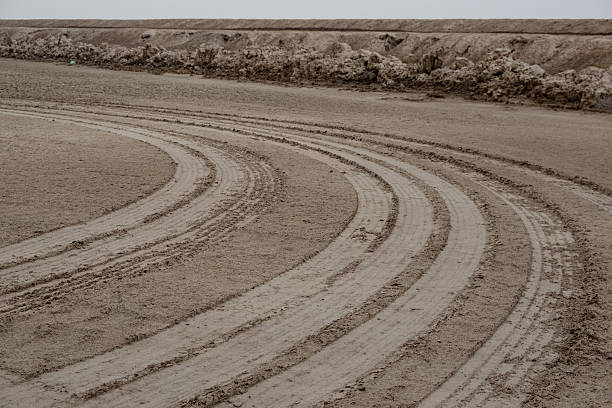vehicle_track: (84, 145, 430, 405), (72, 171, 389, 391), (222, 182, 485, 406), (101, 103, 611, 213), (102, 103, 611, 212), (2, 140, 273, 310), (421, 175, 575, 406), (420, 189, 577, 406), (0, 123, 209, 268), (462, 180, 575, 405), (466, 175, 575, 405), (459, 311, 549, 405), (528, 314, 551, 347), (134, 384, 138, 387)
